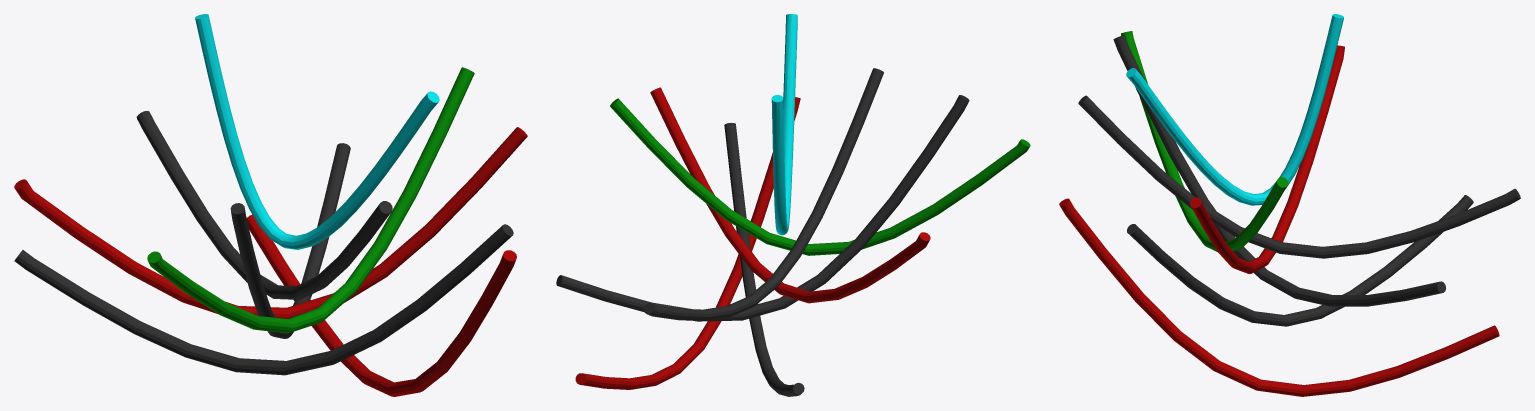
Rendered from hangingWires.fbx.
The picture shows the model from 3 angles, left to right: view 1: azimuth 30°, elevation 25°; view 2: azimuth 150°, elevation 25°; view 3: azimuth 270°, elevation 25°; orthographic projection. The views are drawn at different scales.
Visible parts, largest first — view 1: hangingWires; view 2: hangingWires; view 3: hangingWires.
Boxes of the visible parts, x1=… form: hangingWires: x1=14, y1=14, x2=527, y2=396; hangingWires: x1=556, y1=14, x2=1030, y2=396; hangingWires: x1=1059, y1=14, x2=1520, y2=396.
Size of the model in its own units: 383 by 334 by 433.
